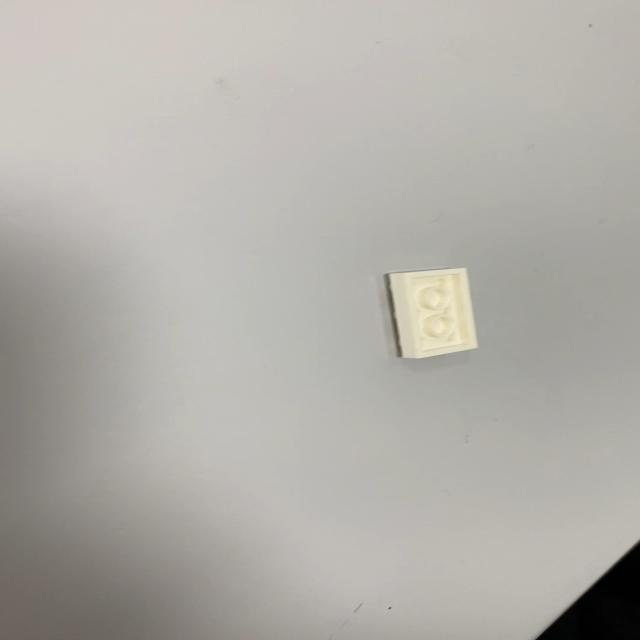C3x1x1: (384, 266, 478, 360)
